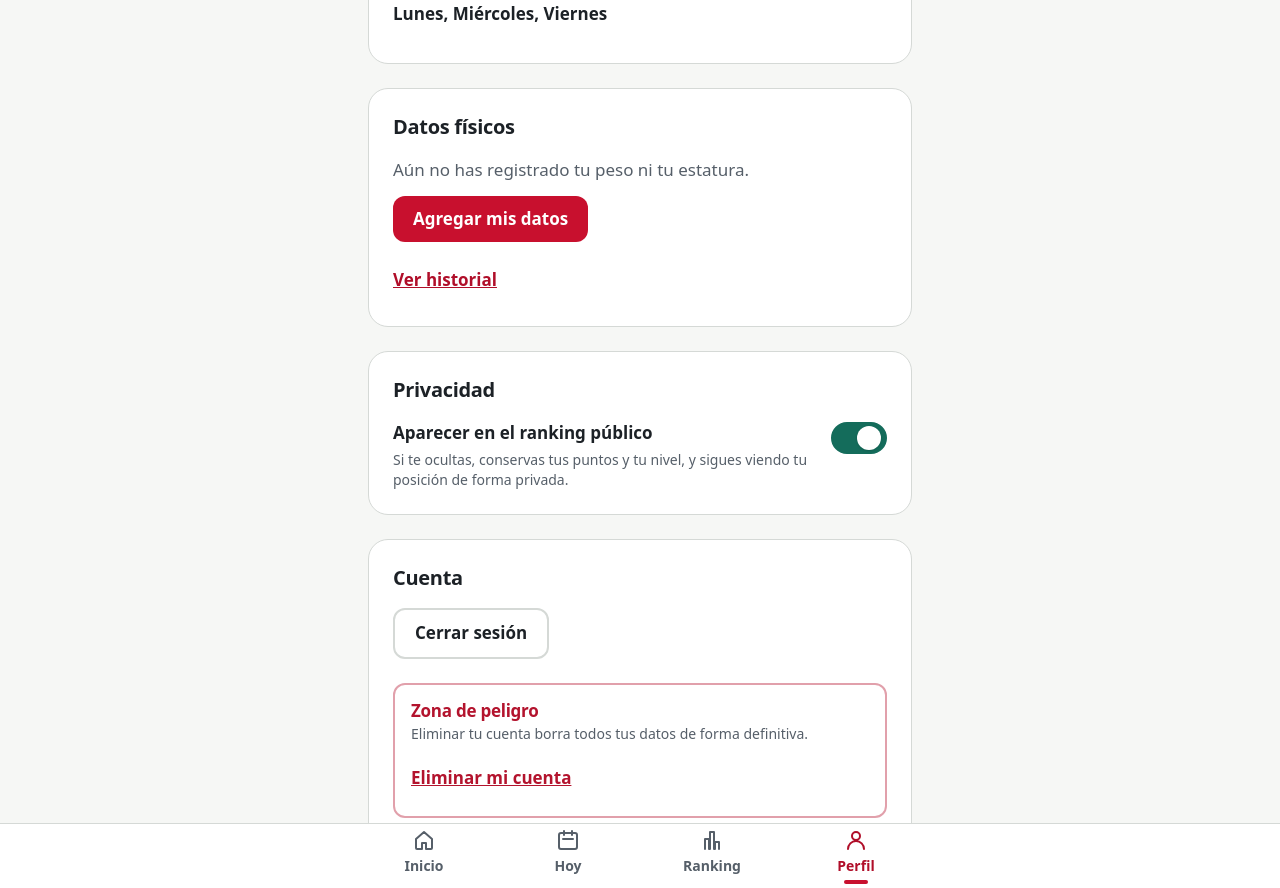
Test case: HU 7 — privacidad › si falla, revierte el interruptor y avisa
(page scrolled)
Click the switch named "Aparecer en el ranking público": (859, 438) [831,422,887,454]
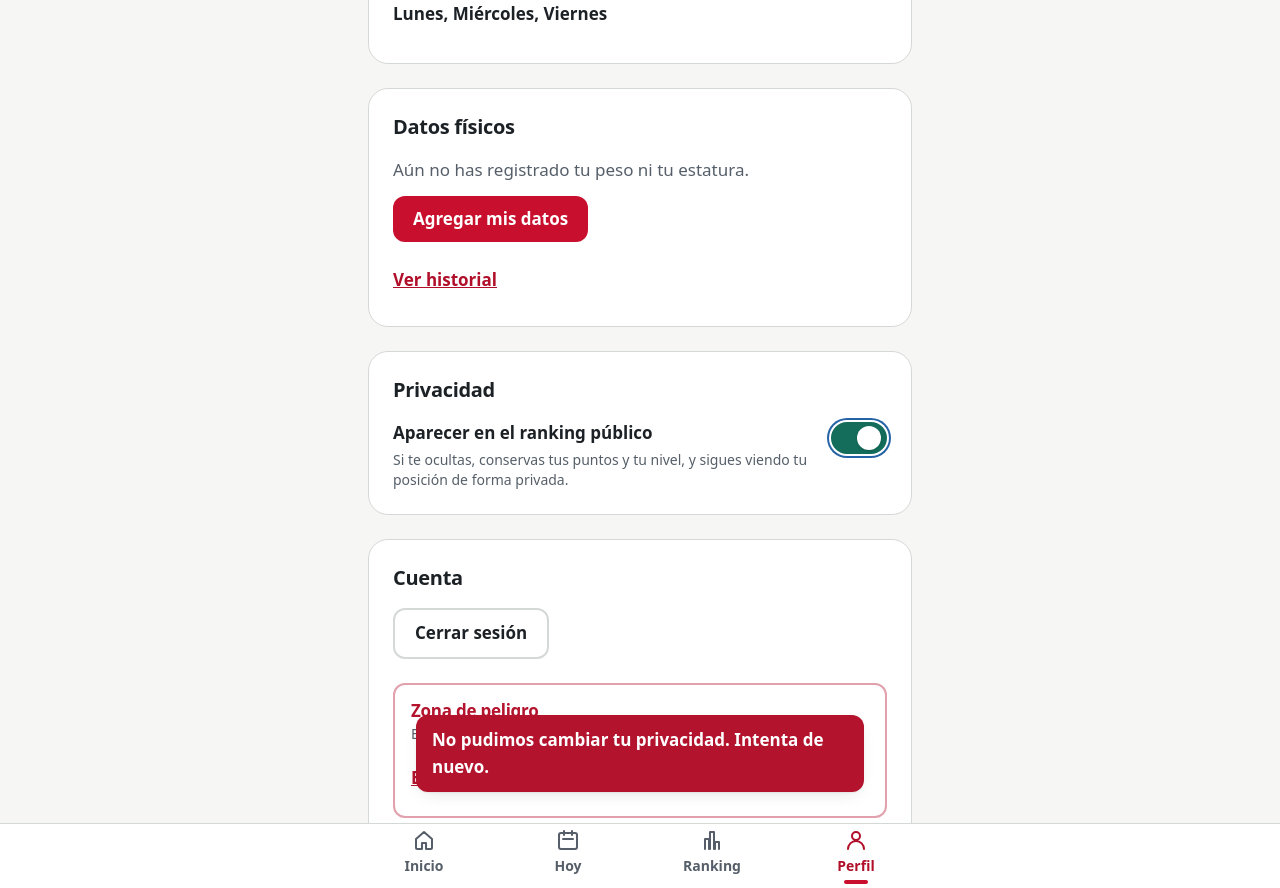
Expected: the text "No pudimos cambiar tu privacidad. Intenta de nuevo." is shown, [416,715,864,792]
